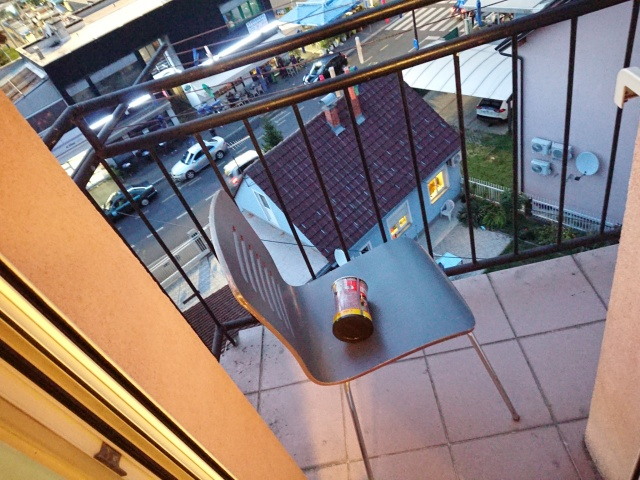Nescafe Classic 225g: (329, 274, 377, 345)
